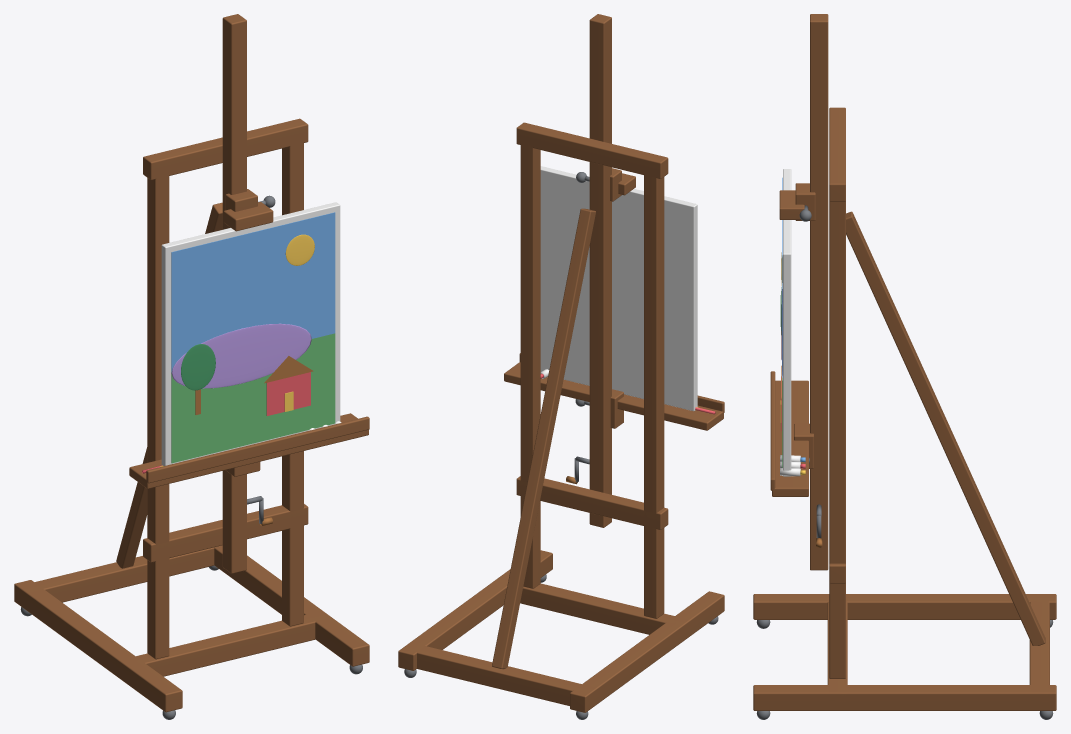
The model's file is easel_pro.glb.
The picture shows the model from 3 angles, left to right: view 1: azimuth 30°, elevation 25°; view 2: azimuth 150°, elevation 25°; view 3: azimuth 270°, elevation 25°; orthographic projection. The views are drawn at different scales.
Visible parts, largest first — view 1: ProPaintSky, ProPaintField, ProUpright_-1.001, ProMast.001, ProCanvas, ProBaseRail_-1.001, ProUpright_1.001, ProPaintHill, ProBaseFront.001, ProBaseBack.001, ProTopBar.001, ProBaseRail_1.001 (+9 smaller); view 2: ProCanvas, ProMast.001, ProUpright_-1.001, ProStrut.001, ProUpright_1.001, ProBaseRail_-1.001, ProBaseBack.001, ProBaseFront.001, ProTopBar.001, ProBaseRail_1.001, ProMidBar.001, ProTray.001; view 3: ProMast.001, ProUpright_1.001, ProBaseRail_1.001, ProStrut.001, ProBaseRail_-1.001, ProTray.001, ProCanvas, ProBaseBack.001, ProTopBar.001, ProBaseFront.001, ProTrayLip.001, ProClamp.001 (+1 smaller).
Part boxes in pixels (bbox=[...]): ProPaintSky: bbox=[171, 212, 335, 372]; ProPaintField: bbox=[171, 333, 335, 463]; ProUpright_-1.001: bbox=[147, 169, 169, 659]; ProMast.001: bbox=[222, 14, 246, 573]; ProCanvas: bbox=[161, 202, 340, 465]; ProBaseRail_-1.001: bbox=[14, 580, 182, 712]; ProUpright_1.001: bbox=[282, 140, 303, 626]; ProPaintHill: bbox=[171, 323, 311, 388]; ProBaseFront.001: bbox=[119, 611, 330, 683]; ProBaseBack.001: bbox=[17, 547, 214, 610]; ProTopBar.001: bbox=[143, 118, 308, 180]; ProBaseRail_1.001: bbox=[214, 545, 369, 666]; ProCanvas: bbox=[540, 166, 697, 411]; ProMast.001: bbox=[589, 14, 611, 527]; ProUpright_-1.001: bbox=[644, 169, 664, 618]; ProStrut.001: bbox=[492, 208, 595, 669]; ProUpright_1.001: bbox=[520, 138, 540, 588]; ProBaseRail_-1.001: bbox=[570, 591, 724, 712]; ProBaseBack.001: bbox=[402, 642, 596, 705]; ProBaseFront.001: bbox=[495, 574, 690, 636]; ProTopBar.001: bbox=[516, 122, 668, 178]; ProBaseRail_1.001: bbox=[398, 550, 552, 670]; ProMidBar.001: bbox=[516, 476, 668, 529]; ProTray.001: bbox=[504, 362, 723, 430]; ProMast.001: bbox=[810, 14, 828, 570]; ProUpright_1.001: bbox=[829, 201, 845, 678]; ProBaseRail_1.001: bbox=[753, 685, 1056, 710]; ProStrut.001: bbox=[846, 211, 1045, 645]; ProBaseRail_-1.001: bbox=[753, 594, 1056, 619]; ProTray.001: bbox=[772, 380, 808, 496]; ProCanvas: bbox=[783, 169, 791, 476]; ProBaseBack.001: bbox=[1029, 601, 1049, 710]; ProTopBar.001: bbox=[829, 107, 845, 201]; ProBaseFront.001: bbox=[827, 601, 847, 710]; ProTrayLip.001: bbox=[770, 371, 775, 490]; ProClamp.001: bbox=[779, 190, 804, 219].
Bounding box in the file's own units: 1.69 × 4.78 × 2.
